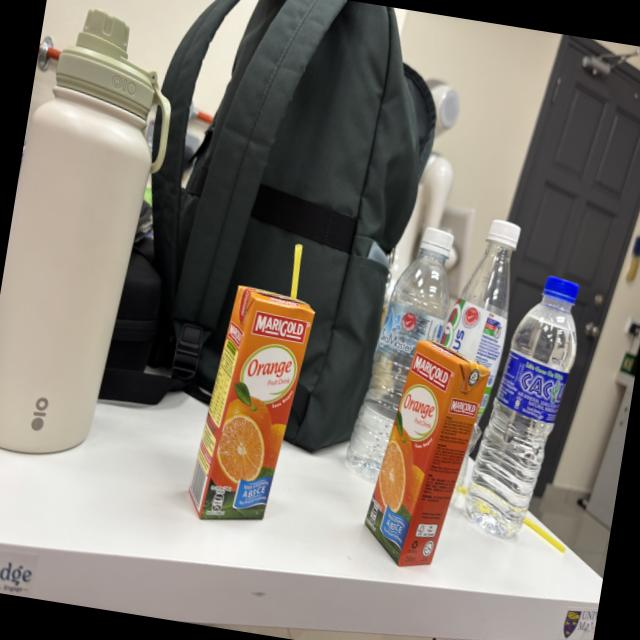drink_carton: (172, 226, 333, 544), (349, 319, 499, 586)
plastic_bottle: (457, 259, 595, 548), (342, 202, 468, 506)
